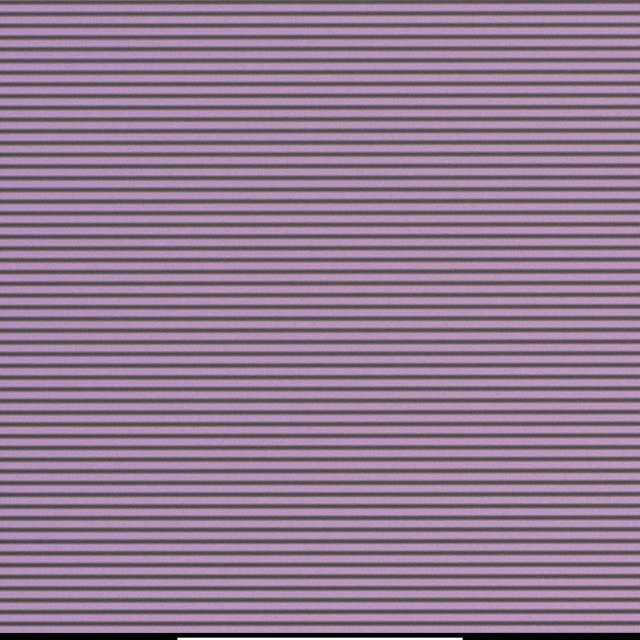nonvisual: (311, 321, 319, 327)
